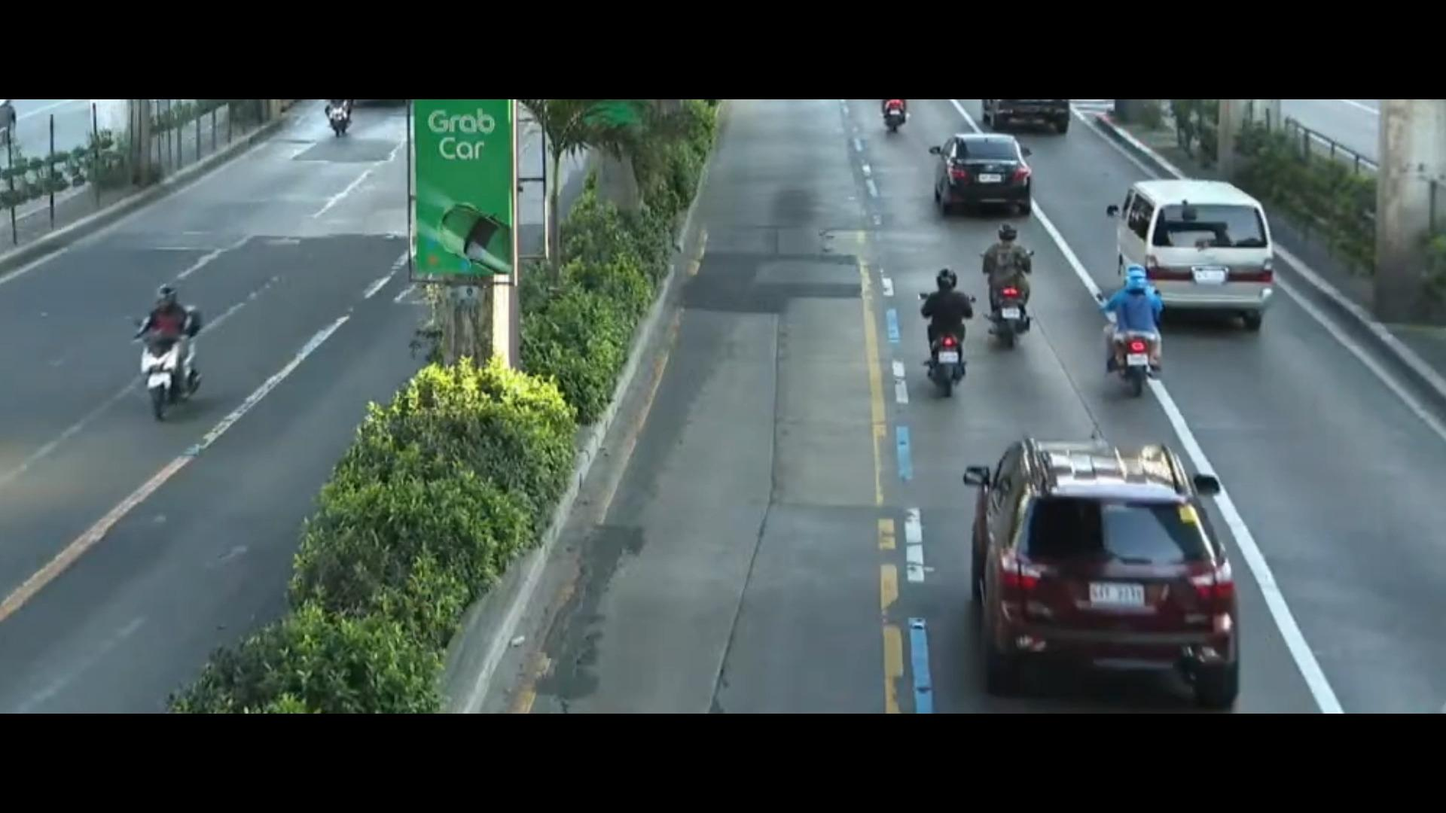Motorcycle: (111, 279, 231, 454), (887, 256, 991, 396), (1082, 261, 1185, 398), (975, 224, 1062, 374)
SUV: (955, 425, 1271, 699)
Sedan: (921, 128, 1060, 226)
Van: (1108, 146, 1288, 348)
